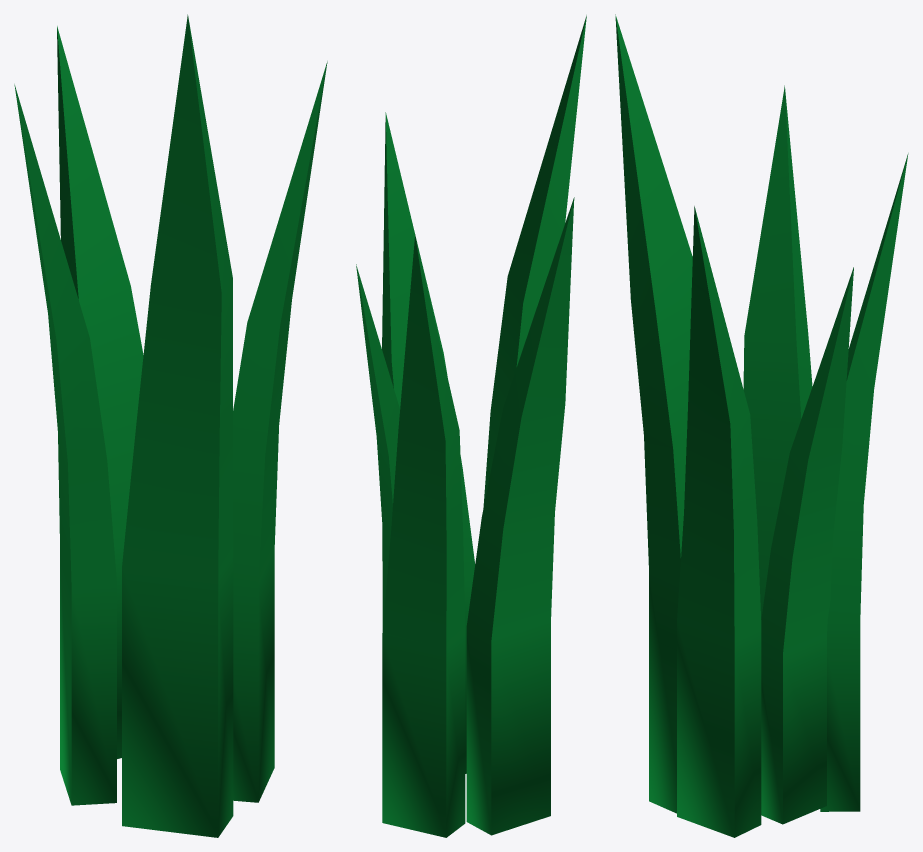
File: GrassC.fbx
3 views of the same model, side by side, from view 1: azimuth 30°, elevation 25°; view 2: azimuth 150°, elevation 25°; view 3: azimuth 270°, elevation 25° (orthographic). The views are drawn at different scales.
Parts seen in each view (by area): view 1: GrassC; view 2: GrassC; view 3: GrassC.
Part boxes in pixels (<box>): GrassC: <box>14,14,327,837</box>; GrassC: <box>356,15,586,837</box>; GrassC: <box>615,14,908,837</box>.
Bounding box in the file's own units: 0.5783 × 0.6183 × 1.78.
